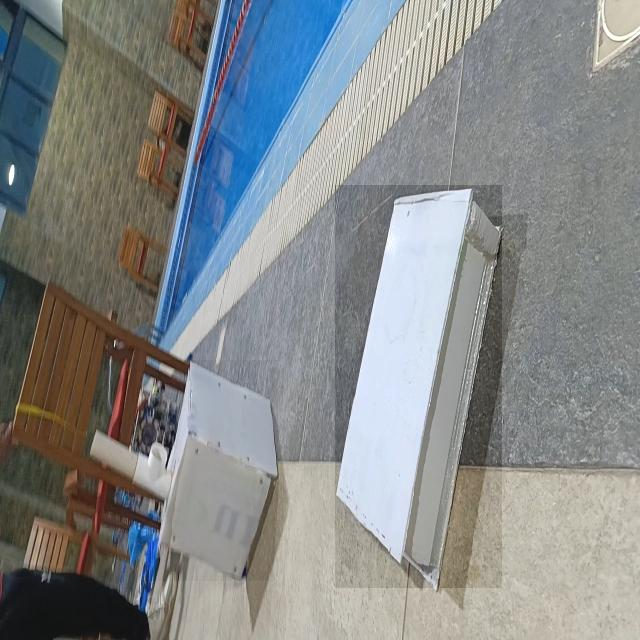Cube: (158, 360, 278, 581)
Cuboid: (335, 185, 502, 588)
